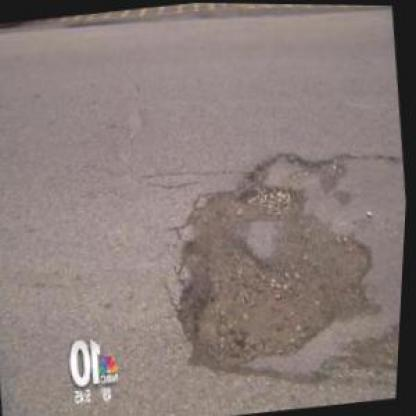pothole: (162, 140, 397, 374)
